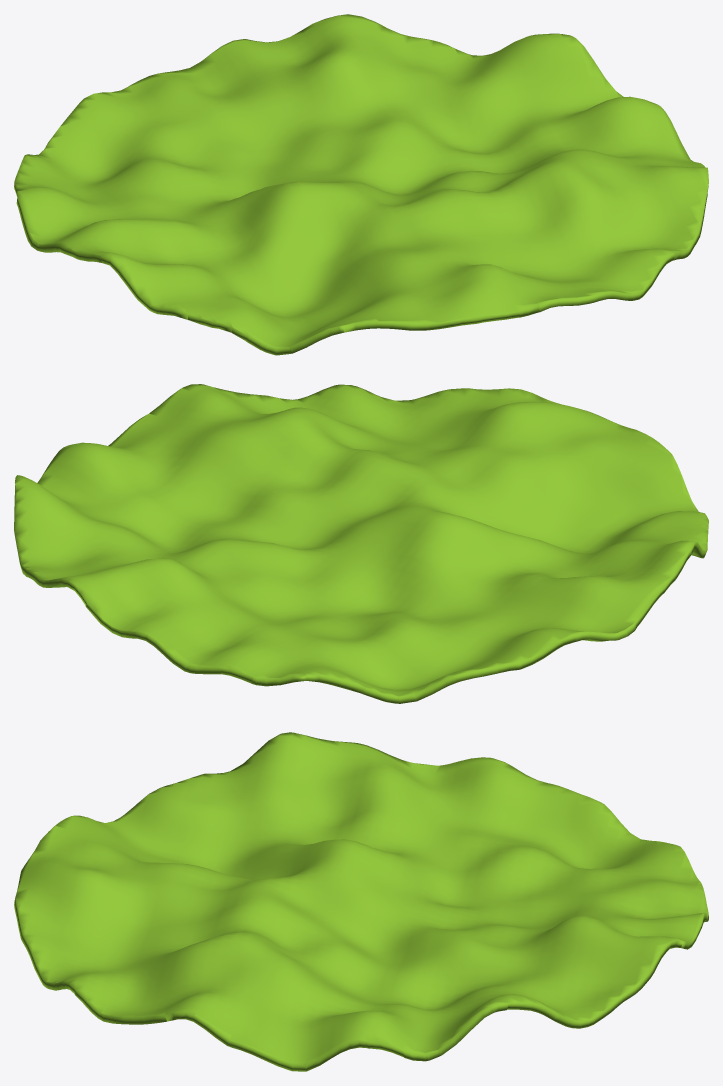
The model's file is salade.fbx.
The picture shows the model from 3 angles, top to bottom: view 1: azimuth 30°, elevation 25°; view 2: azimuth 150°, elevation 25°; view 3: azimuth 270°, elevation 25°; orthographic projection.
Parts seen in each view (by area): view 1: green .002; view 2: green .002; view 3: green .002.
Part boxes in pixels (x1,y1,x2,y2): green .002: (14,14,708,355); green .002: (14,384,708,703); green .002: (14,732,708,1071).
Size of the model in its own units: 271 by 33.77 by 273.
